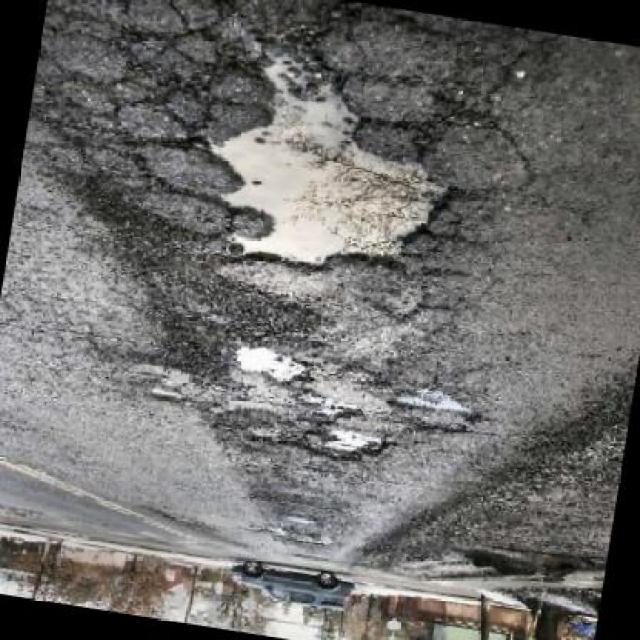pothole1: (174, 36, 481, 302), (383, 382, 485, 441), (301, 421, 393, 472), (227, 338, 315, 389), (297, 394, 369, 432), (146, 385, 186, 407)
